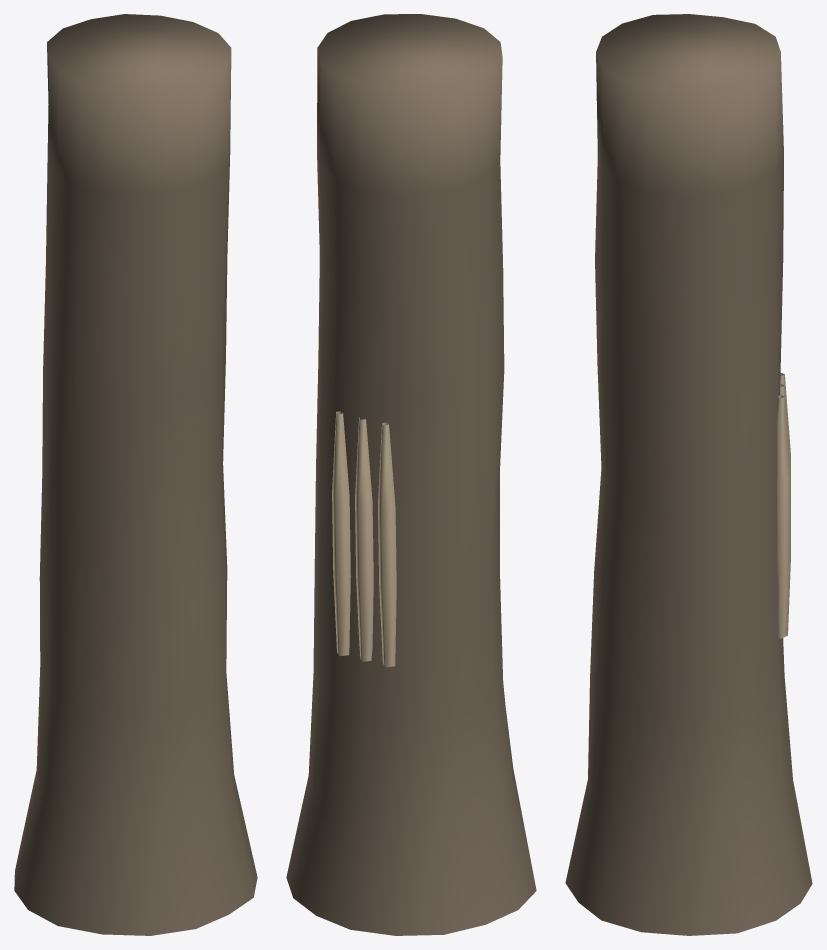
The model's file is PROP_PC_ClawSnag.fbx.
The picture shows the model from 3 angles, left to right: view 1: azimuth 30°, elevation 25°; view 2: azimuth 150°, elevation 25°; view 3: azimuth 270°, elevation 25°; orthographic projection.
Visible parts, largest first — view 1: PROP_PC_ClawSnag_LOD0; view 2: PROP_PC_ClawSnag_LOD0; view 3: PROP_PC_ClawSnag_LOD0.
Boxes of the visible parts, x1=… form: PROP_PC_ClawSnag_LOD0: x1=14, y1=14, x2=257, y2=935; PROP_PC_ClawSnag_LOD0: x1=286, y1=14, x2=536, y2=935; PROP_PC_ClawSnag_LOD0: x1=565, y1=14, x2=812, y2=935.
Size of what is drawn, in the model's own units: 1.21 by 4.5 by 1.21.
